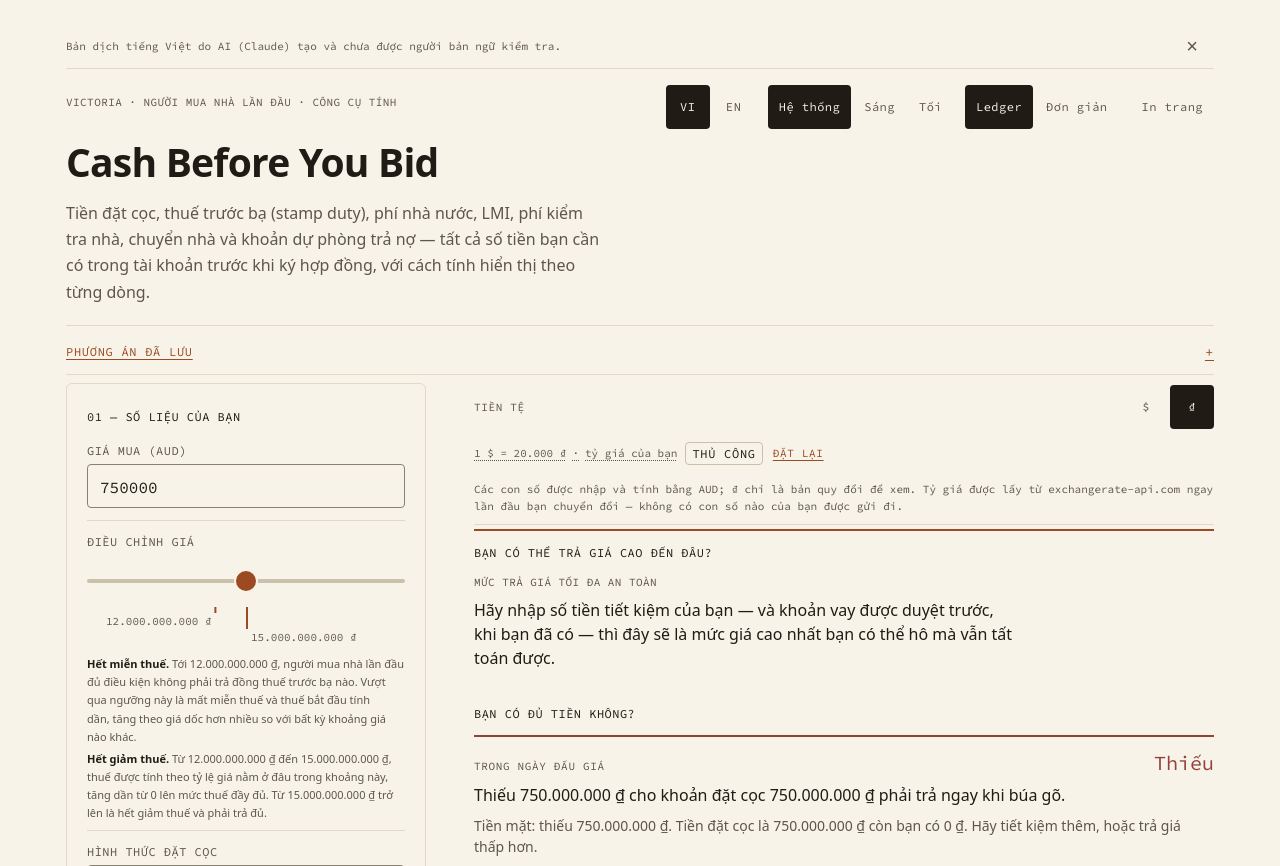
Test: the exchange rate › resets an override back to the fetched rate
This screenshot has width=1280, height=866.
Expected: the field labelled "Giá mua (AUD)" is shown, [87,464,405,508]
Expected: the text "THỦ CÔNG" is shown, [685,442,763,465]
Click the button "Đặt lại".
click(798, 453)  # box [771,431,826,475]
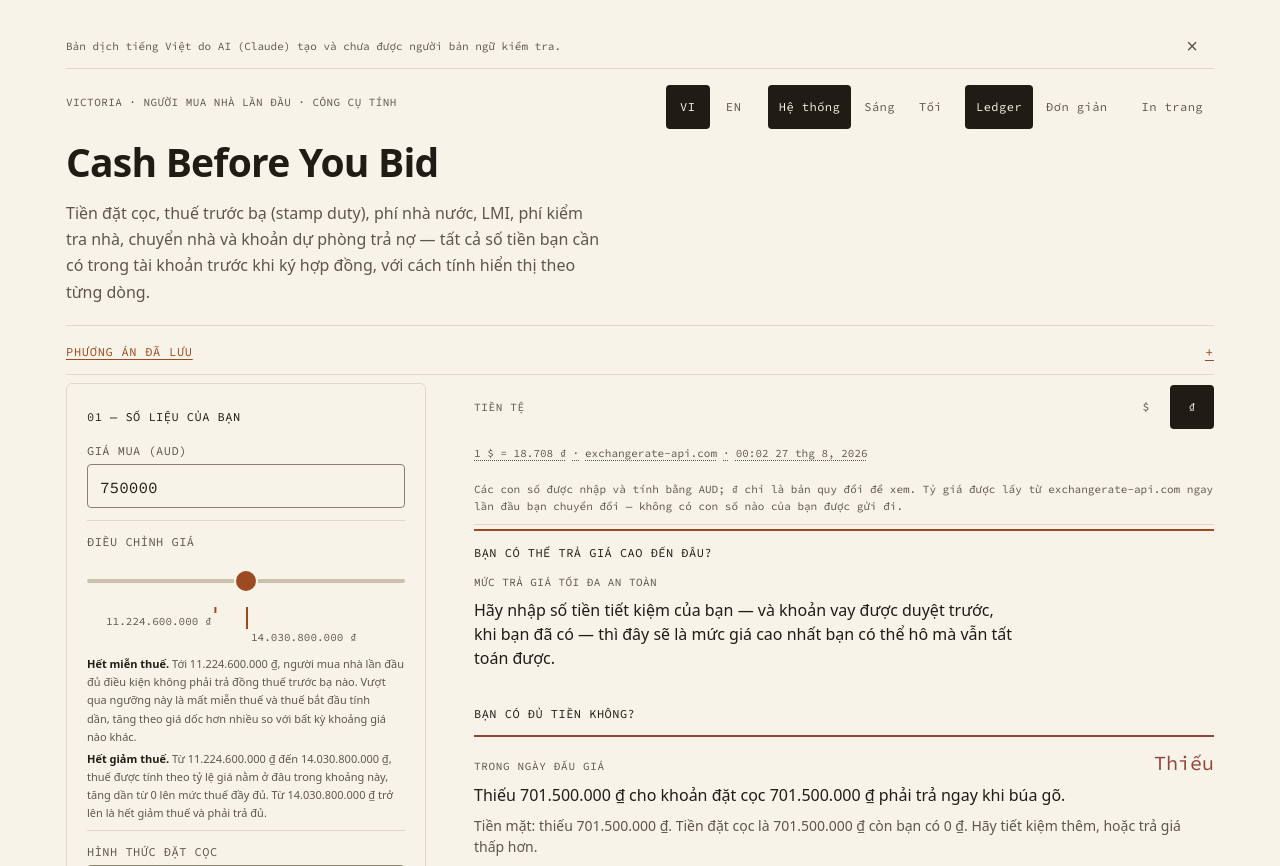
Now the text with class "tag" is gone
